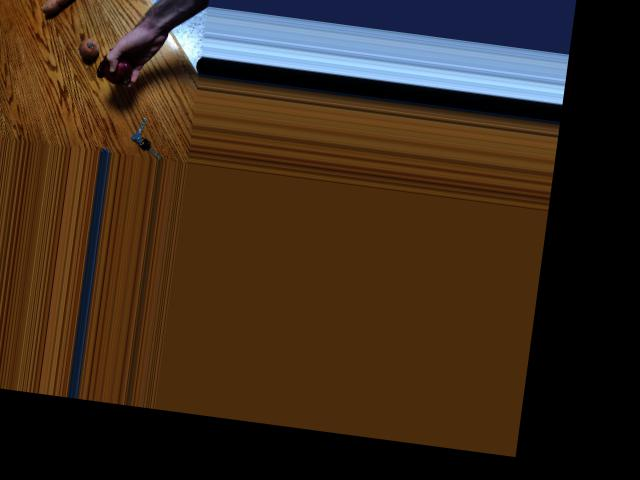onion: (75, 32, 109, 61)
